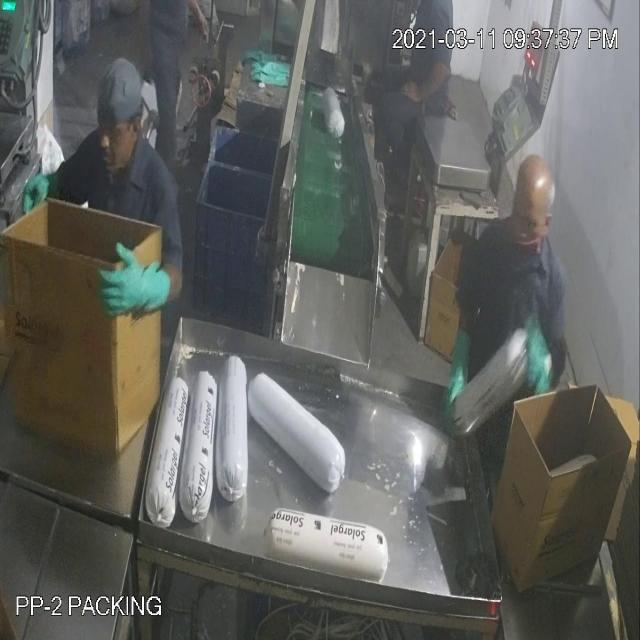No_Gloves: (59, 65, 428, 284)
